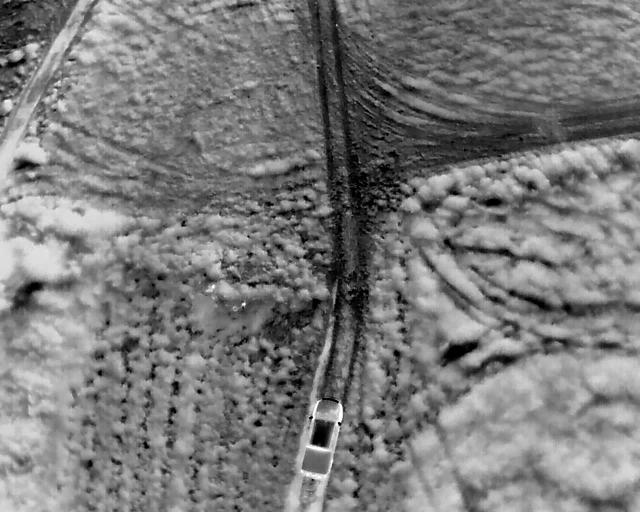car: (300, 397, 343, 480)
